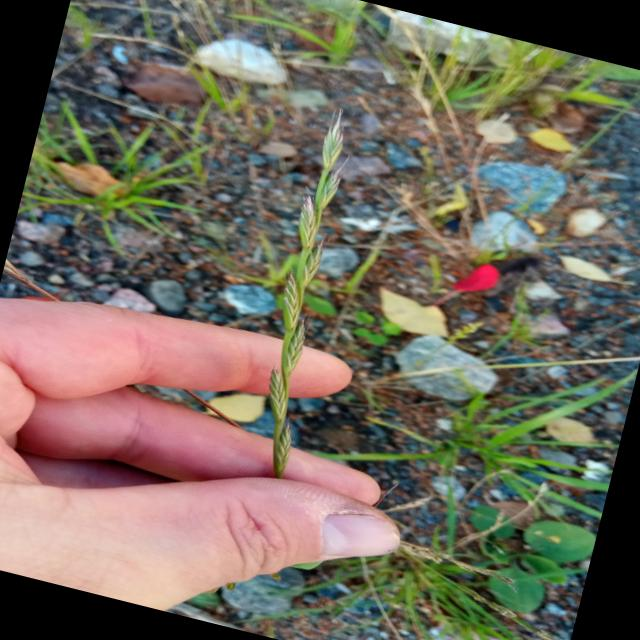Lolium: (226, 101, 380, 481)
